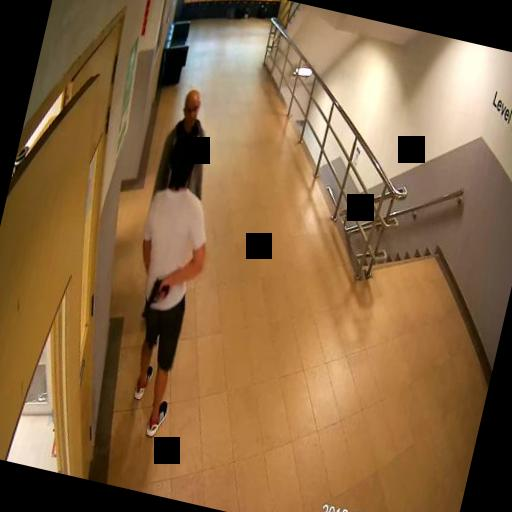Handgun: (141, 276, 169, 319)
